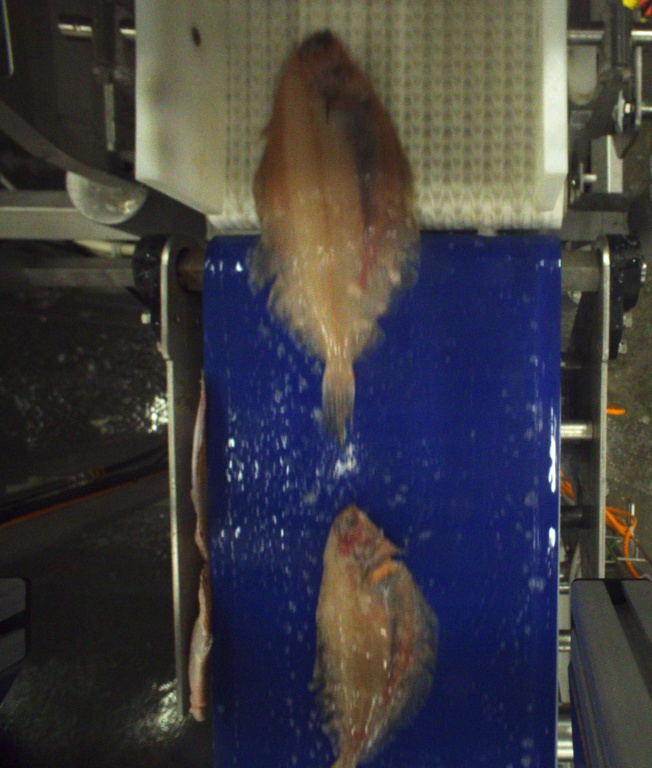WIT: (316, 503, 436, 768)
